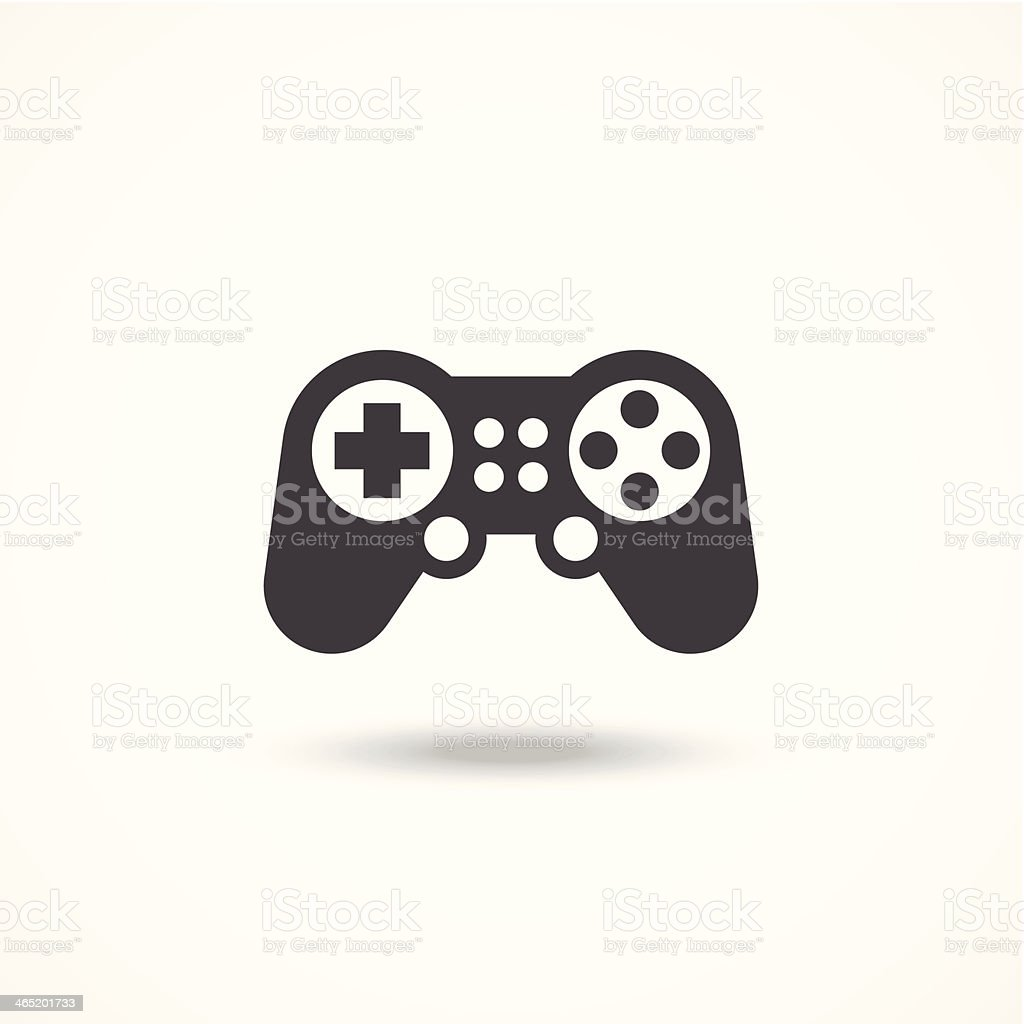controller: (262, 348, 760, 657)
